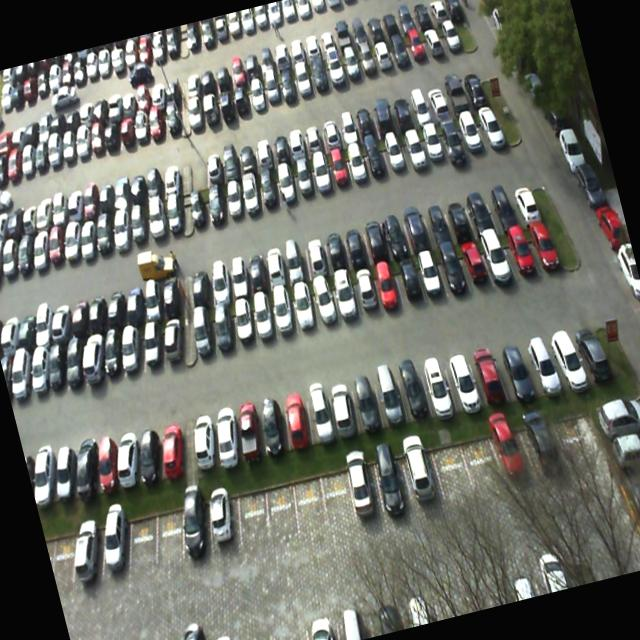empty: (113, 508, 168, 576), (142, 498, 194, 569), (256, 479, 304, 544), (228, 484, 276, 546), (286, 470, 332, 533), (316, 465, 358, 529), (44, 528, 85, 586)
occupied: (60, 521, 111, 587), (89, 516, 140, 582), (168, 494, 218, 561), (563, 314, 610, 380), (516, 329, 560, 398), (228, 398, 274, 463), (198, 488, 246, 550), (342, 460, 387, 526), (492, 336, 534, 402), (540, 322, 582, 388), (61, 438, 105, 500), (201, 297, 243, 360), (443, 351, 485, 414), (110, 316, 152, 378), (468, 344, 510, 406), (92, 324, 135, 384), (105, 430, 148, 490), (82, 436, 125, 495), (252, 395, 294, 455), (322, 378, 361, 442), (276, 391, 316, 452), (242, 286, 281, 348), (131, 316, 171, 376), (207, 404, 247, 464), (150, 423, 192, 480), (128, 424, 168, 483), (370, 366, 408, 428), (521, 215, 562, 272), (420, 357, 458, 418), (152, 310, 190, 370), (298, 385, 336, 445), (394, 360, 431, 421), (222, 296, 260, 354), (344, 374, 382, 432), (477, 230, 515, 286), (76, 328, 112, 387), (184, 304, 218, 366), (462, 183, 499, 239), (420, 192, 456, 248), (186, 414, 223, 468), (96, 283, 134, 332), (306, 278, 341, 331), (486, 178, 520, 232), (287, 282, 321, 336), (458, 238, 492, 292), (507, 174, 542, 226), (501, 228, 536, 280), (115, 280, 151, 330), (434, 245, 469, 296), (401, 201, 434, 255), (414, 251, 448, 303), (266, 287, 298, 342), (79, 290, 117, 336), (138, 194, 172, 245), (442, 190, 475, 242), (349, 267, 382, 319), (104, 204, 138, 254), (392, 254, 424, 307), (472, 102, 507, 150), (380, 204, 412, 256), (122, 200, 155, 250), (371, 261, 402, 314), (258, 242, 292, 290), (136, 277, 172, 322), (318, 224, 349, 276), (87, 208, 121, 255), (158, 272, 192, 319), (182, 184, 215, 232), (200, 260, 233, 308), (330, 271, 360, 323), (156, 193, 188, 240), (358, 215, 390, 262), (280, 237, 312, 283), (184, 266, 217, 310), (222, 252, 255, 296), (324, 146, 354, 192), (438, 114, 468, 160), (241, 250, 273, 293), (298, 234, 329, 278), (236, 171, 265, 218), (254, 168, 283, 214), (340, 224, 370, 268), (220, 177, 248, 224), (419, 122, 449, 164), (455, 112, 485, 154), (203, 182, 231, 226), (346, 142, 372, 186), (289, 160, 316, 202), (381, 134, 409, 174), (362, 138, 389, 179), (400, 128, 427, 167), (272, 166, 298, 206), (308, 153, 333, 193)
